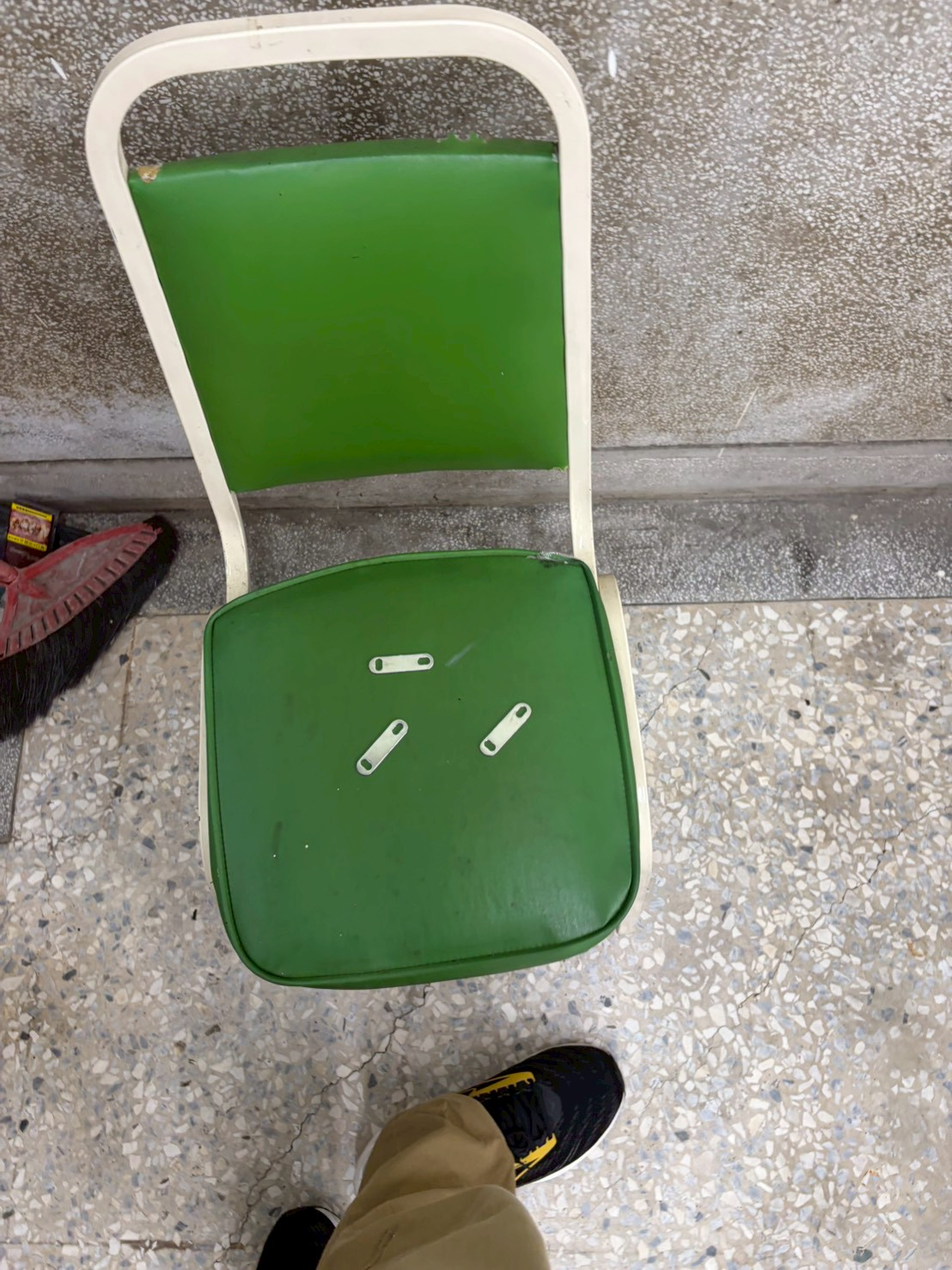Fe: (478, 687, 536, 760), (349, 717, 416, 779), (365, 643, 435, 680)
